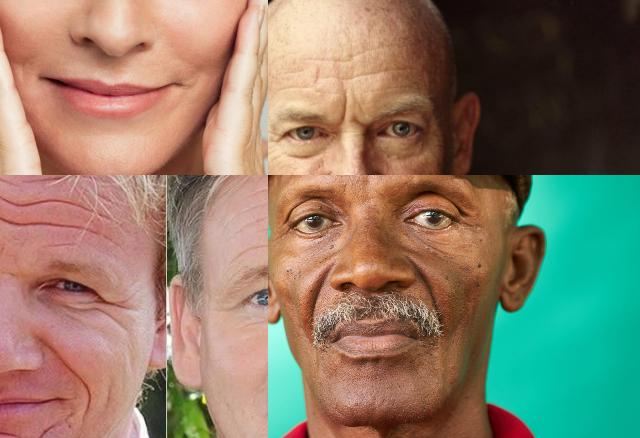chin: (32, 422, 60, 438)
crows_feet: (97, 294, 129, 326), (453, 214, 482, 236), (272, 218, 296, 244)
forehead: (0, 191, 48, 231), (60, 197, 102, 237), (298, 50, 339, 66), (334, 68, 378, 82), (24, 175, 63, 189), (306, 64, 324, 94)
frown_line: (338, 90, 352, 124), (0, 242, 10, 268)
gummy_smile: (42, 339, 86, 383), (412, 266, 444, 312), (304, 273, 326, 323)
sad_smile: (77, 394, 95, 422)
